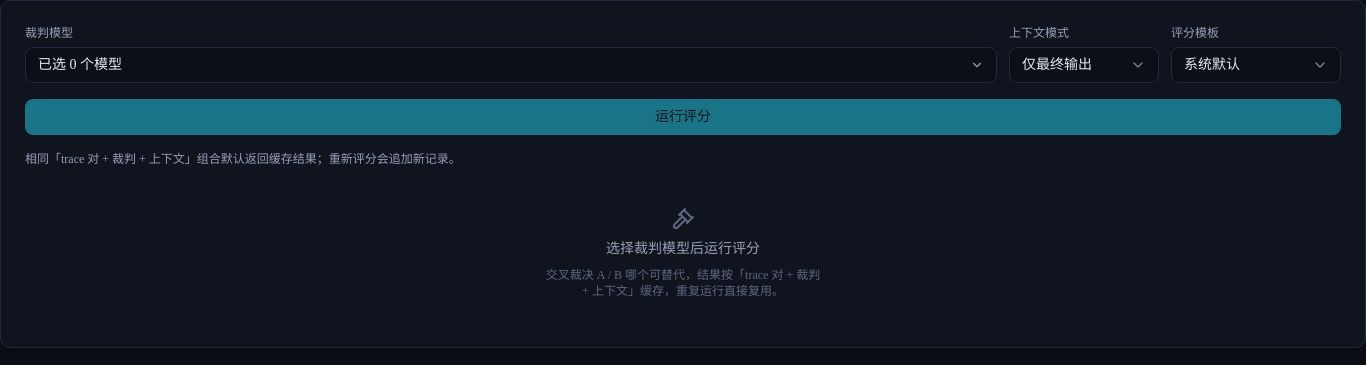
Test: JudgePanel — 评分模板 › lists project templates alongside 系统默认 in the select
This screenshot has width=1366, height=365.
Click the dropdown "系统默认": click(1256, 65) [1171,47,1341,83]
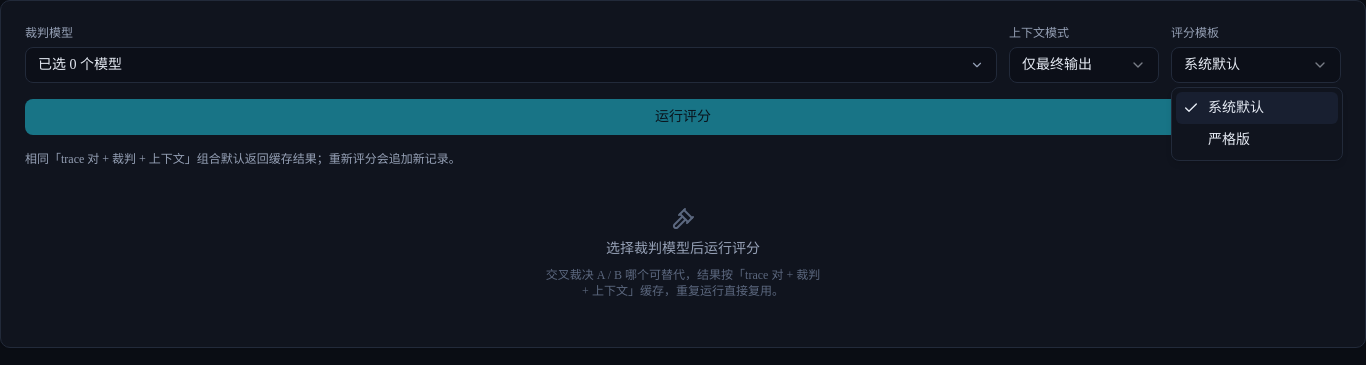
Check: the text "严格版" is shown, box [1208,130,1250,150]
